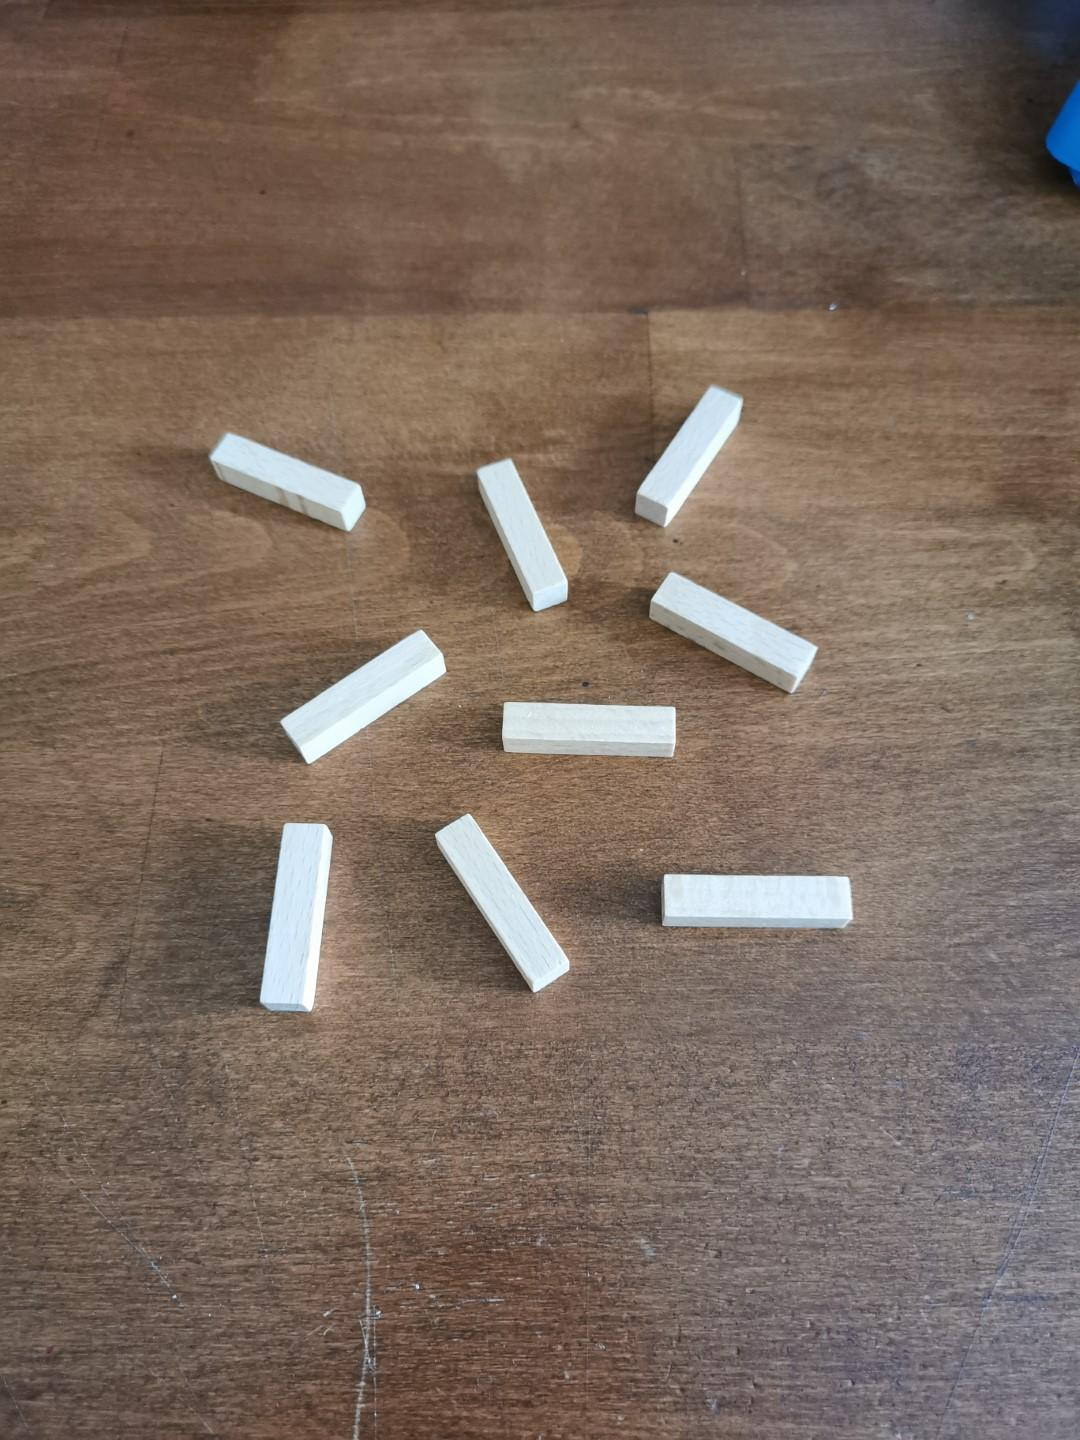jenga: (434, 815, 569, 993), (280, 632, 445, 763), (651, 573, 818, 694), (208, 433, 365, 531), (636, 386, 744, 526), (259, 824, 332, 1013), (478, 458, 567, 611), (663, 875, 854, 929), (503, 702, 677, 757)
